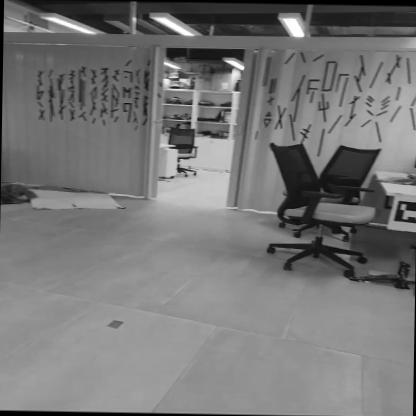open: (146, 48, 255, 204)
